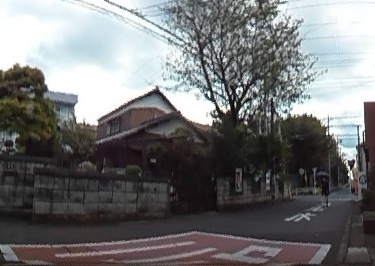person: (319, 173, 331, 206)
